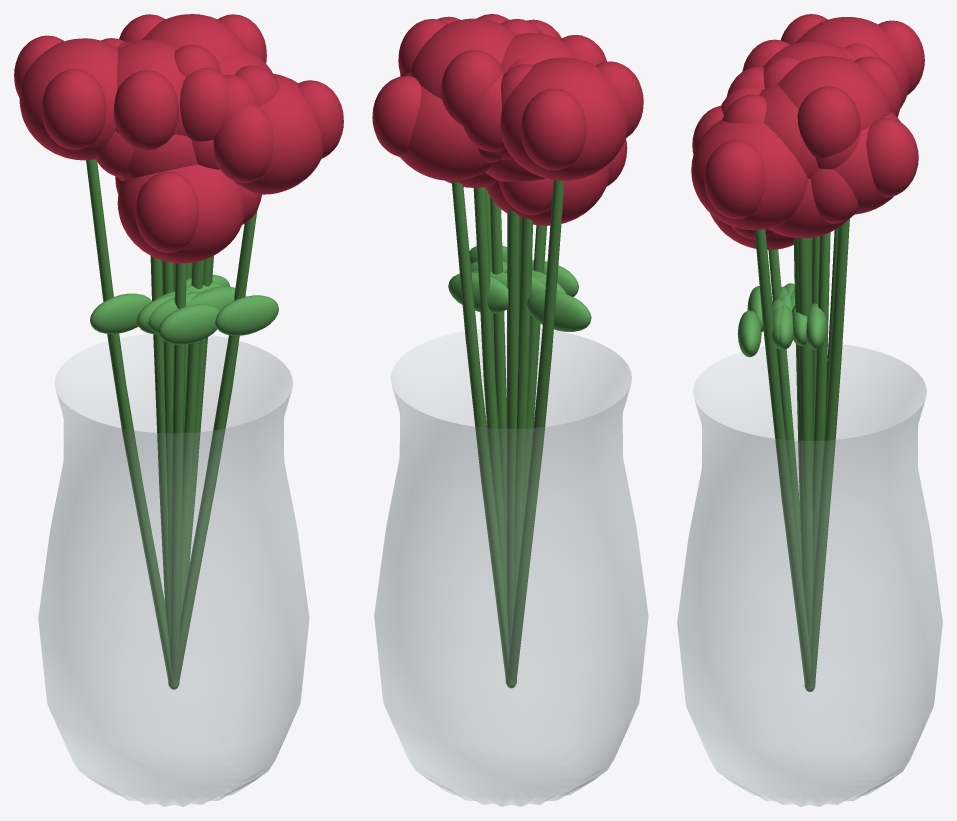
The model's file is deco_rosas.glb.
3 views of the same model, side by side, from view 1: azimuth 30°, elevation 25°; view 2: azimuth 150°, elevation 25°; view 3: azimuth 270°, elevation 25° (orthographic). The views are drawn at different scales.
Visible parts, largest first — view 1: florero rosas.001, rosa 6.001, rosa 4.001, tallo rosa 4.001, rosa 8.001, tallo rosa 8.001, tallo rosa 6.001, pétalo rosa 21.001, pétalo rosa 40.001, pétalo rosa 62.001, pétalo rosa 81.001, pétalo rosa 91.001 (+19 smaller); view 2: florero rosas.001, rosa 4.001, tallo rosa 4.001, tallo rosa 3.001, rosa 3.001, tallo rosa 0.001, pétalo rosa 42.001, tallo rosa 10.001, rosa 0.001, tallo rosa 2.001, pétalo rosa 32.001, pétalo rosa 01.001 (+14 smaller); view 3: florero rosas.001, rosa 8.001, tallo rosa 8.001, tallo rosa 3.001, rosa 0.001, pétalo rosa 82.001, tallo rosa 7.001, pétalo rosa 00.001, pétalo rosa 32.001, tallo rosa 0.001, rosa 4.001, rosa 5.001 (+22 smaller).
Part boxes in pixels (x1=…): florero rosas.001: x1=38, y1=334, x2=309, y2=806; rosa 6.001: x1=117, y1=164, x2=244, y2=263; rosa 4.001: x1=19, y1=38, x2=118, y2=160; tallo rosa 4.001: x1=86, y1=159, x2=179, y2=689; rosa 8.001: x1=234, y1=73, x2=323, y2=194; tallo rosa 8.001: x1=169, y1=210, x2=257, y2=688; tallo rosa 6.001: x1=168, y1=263, x2=186, y2=684; pétalo rosa 21.001: x1=113, y1=70, x2=178, y2=150; pétalo rosa 40.001: x1=41, y1=69, x2=106, y2=149; pétalo rosa 62.001: x1=135, y1=171, x2=198, y2=252; pétalo rosa 81.001: x1=213, y1=105, x2=273, y2=183; pétalo rosa 91.001: x1=180, y1=67, x2=227, y2=141; florero rosas.001: x1=374, y1=327, x2=648, y2=806; rosa 4.001: x1=500, y1=57, x2=627, y2=180; tallo rosa 4.001: x1=506, y1=180, x2=564, y2=685; tallo rosa 3.001: x1=451, y1=181, x2=515, y2=687; rosa 3.001: x1=400, y1=74, x2=491, y2=180; tallo rosa 0.001: x1=474, y1=187, x2=516, y2=686; pétalo rosa 42.001: x1=520, y1=88, x2=586, y2=170; tallo rosa 10.001: x1=505, y1=209, x2=519, y2=684; rosa 0.001: x1=410, y1=18, x2=513, y2=99; tallo rosa 2.001: x1=507, y1=217, x2=532, y2=686; pétalo rosa 32.001: x1=372, y1=76, x2=421, y2=157; pétalo rosa 01.001: x1=441, y1=50, x2=503, y2=125; florero rosas.001: x1=677, y1=343, x2=942, y2=806; rosa 8.001: x1=691, y1=119, x2=808, y2=230; tallo rosa 8.001: x1=755, y1=229, x2=814, y2=687; tallo rosa 3.001: x1=805, y1=218, x2=849, y2=688; rosa 0.001: x1=777, y1=56, x2=891, y2=130; pétalo rosa 82.001: x1=704, y1=139, x2=765, y2=218; tallo rosa 7.001: x1=798, y1=238, x2=813, y2=688; pétalo rosa 00.001: x1=797, y1=86, x2=860, y2=157; pétalo rosa 32.001: x1=866, y1=118, x2=918, y2=197; tallo rosa 0.001: x1=805, y1=232, x2=830, y2=688; rosa 4.001: x1=796, y1=17, x2=909, y2=108; rosa 5.001: x1=759, y1=84, x2=818, y2=178.
Size of the model in its own units: 0.1346 by 0.3756 by 0.1236.
